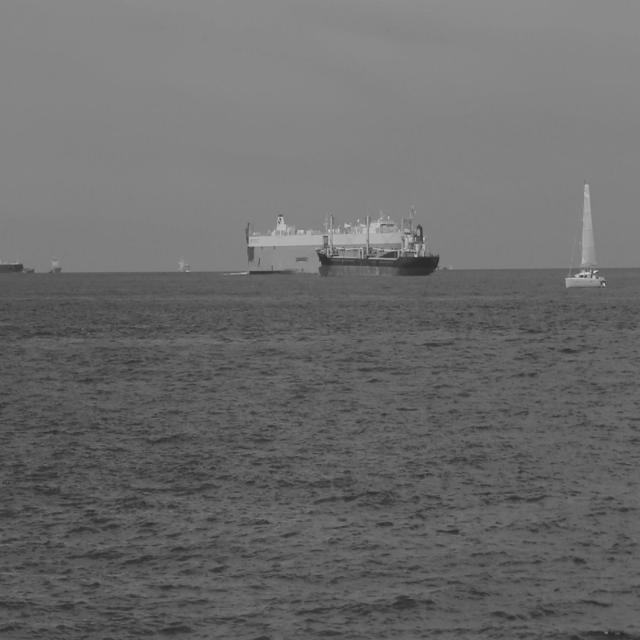ship: (244, 210, 402, 276), (316, 203, 440, 278), (564, 177, 606, 289), (0, 256, 24, 274), (46, 254, 62, 274), (176, 254, 190, 274), (22, 264, 35, 274)
